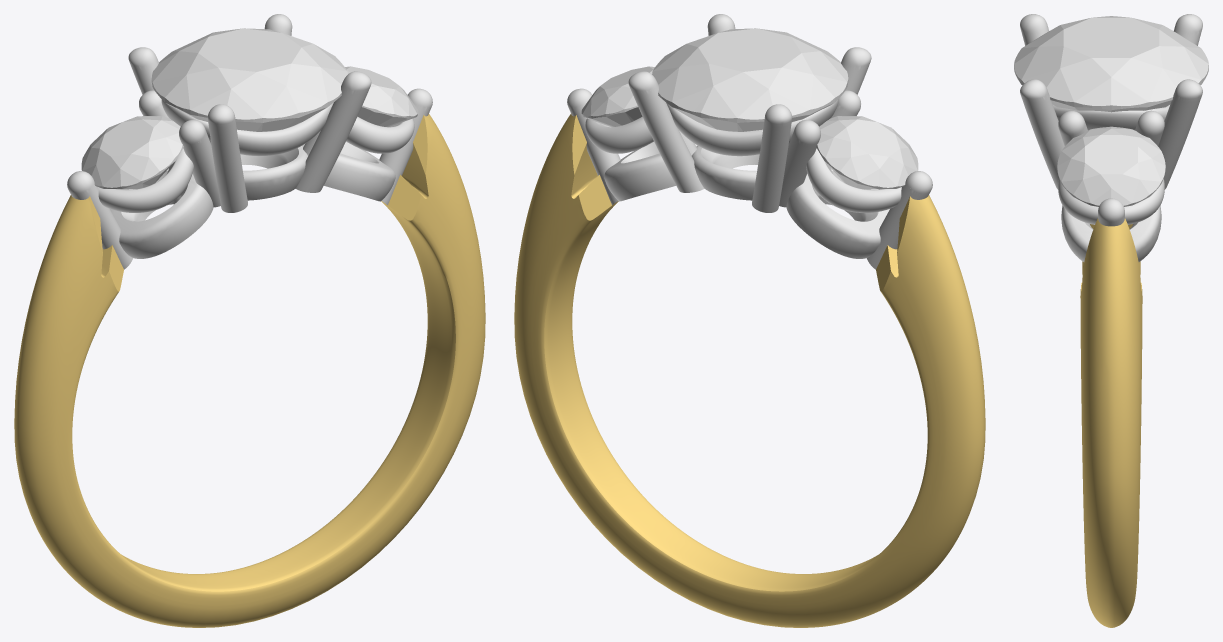
File: SamFreedmanV3.glb
3 views of the same model, side by side, from view 1: azimuth 30°, elevation 25°; view 2: azimuth 150°, elevation 25°; view 3: azimuth 270°, elevation 25° (orthographic).
Visible parts, largest first — view 1: Sam v3 YG for 3d model, Sam v3 PT for 3d model, Sam v2 dia for 3d model.002, Sam v2 dia for 3d model.001, Sam v2 dia for 3d model; view 2: Sam v3 YG for 3d model, Sam v3 PT for 3d model, Sam v2 dia for 3d model.002, Sam v2 dia for 3d model.001, Sam v2 dia for 3d model; view 3: Sam v3 YG for 3d model, Sam v2 dia for 3d model.002, Sam v3 PT for 3d model, Sam v2 dia for 3d model.
Boxes of the visible parts, box(x1,y1,x2,y2) form: Sam v3 YG for 3d model: box(14, 114, 485, 627); Sam v3 PT for 3d model: box(67, 14, 432, 269); Sam v2 dia for 3d model.002: box(151, 28, 347, 131); Sam v2 dia for 3d model.001: box(81, 116, 183, 189); Sam v2 dia for 3d model: box(345, 66, 418, 127); Sam v3 YG for 3d model: box(514, 114, 985, 627); Sam v3 PT for 3d model: box(567, 14, 932, 269); Sam v2 dia for 3d model.002: box(652, 28, 848, 131); Sam v2 dia for 3d model.001: box(816, 116, 918, 189); Sam v2 dia for 3d model: box(581, 66, 654, 127); Sam v3 YG for 3d model: box(1080, 218, 1142, 627); Sam v2 dia for 3d model.002: box(1014, 16, 1208, 112); Sam v3 PT for 3d model: box(1020, 14, 1202, 261); Sam v2 dia for 3d model: box(1057, 126, 1165, 206).
Bounding box in the file's own units: 19.7 × 23.05 × 7.2.
